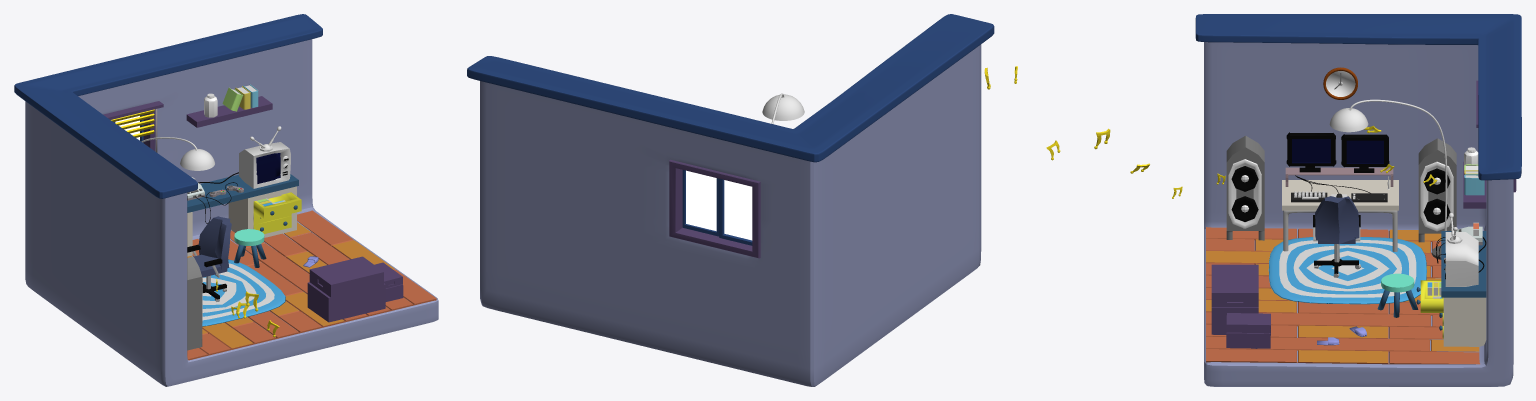
File: habitacion2.glb
3 views of the same model, side by side, from view 1: azimuth 30°, elevation 25°; view 2: azimuth 150°, elevation 25°; view 3: azimuth 270°, elevation 25° (orthographic). The views are drawn at different scales.
Visible parts, largest first — view 1: mure, parquet, Cube.036, Cube.051, Cube.016, Cube.009, haut parleur, Cube.012, Cube, Cube.010, Cube.013, Cube.035 (+6 smaller); view 2: mure, Cube.038, Plane.005, Plane.006, Sphere, Cube.037, Cube.039; view 3: mure, parquet, Cube.051, Cube.036, table, Cube.012, Cube, haut parleur, monitor, monitor.001, Cube.016, haut parleur 2 (+17 smaller).
Part boxes in pixels (x1,y1,x2,y2): mure: [14, 14, 438, 386]; parquet: [187, 210, 436, 360]; Cube.036: [307, 256, 385, 322]; Cube.051: [202, 259, 285, 326]; Cube.016: [239, 142, 290, 188]; Cube.009: [187, 174, 298, 212]; haut parleur: [187, 256, 202, 350]; Cube.012: [228, 186, 296, 237]; Cube: [198, 216, 231, 269]; Cube.010: [186, 96, 272, 127]; Cube.013: [253, 192, 301, 220]; Cube.035: [374, 262, 403, 301]; mure: [467, 14, 994, 386]; Cube.038: [669, 159, 760, 258]; Plane.005: [686, 170, 716, 231]; Plane.006: [724, 180, 752, 240]; Sphere: [762, 94, 804, 120]; Cube.037: [682, 170, 719, 236]; Cube.039: [719, 179, 752, 245]; mure: [1195, 14, 1521, 386]; parquet: [1206, 227, 1479, 364]; Cube.051: [1268, 237, 1426, 304]; Cube.036: [1211, 264, 1258, 334]; table: [1282, 180, 1398, 210]; Cube.012: [1443, 297, 1486, 346]; Cube: [1315, 196, 1359, 243]; haut parleur: [1226, 135, 1264, 240]; monitor: [1286, 132, 1336, 172]; monitor.001: [1341, 134, 1389, 172]; Cube.016: [1445, 232, 1478, 286]; haut parleur 2: [1418, 138, 1456, 242].
Size of what is drawn, in the model's own units: 13.73 by 9 by 17.53.
